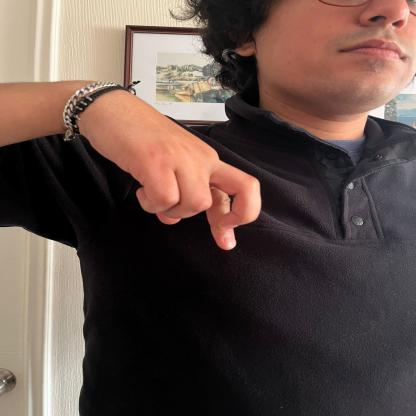P: (74, 82, 264, 257)
